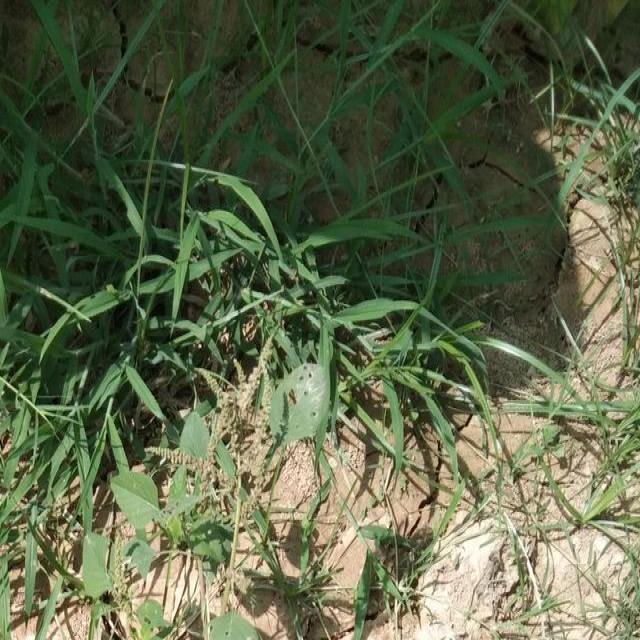weed: (142, 169, 546, 370), (50, 138, 140, 424), (194, 270, 252, 302)
